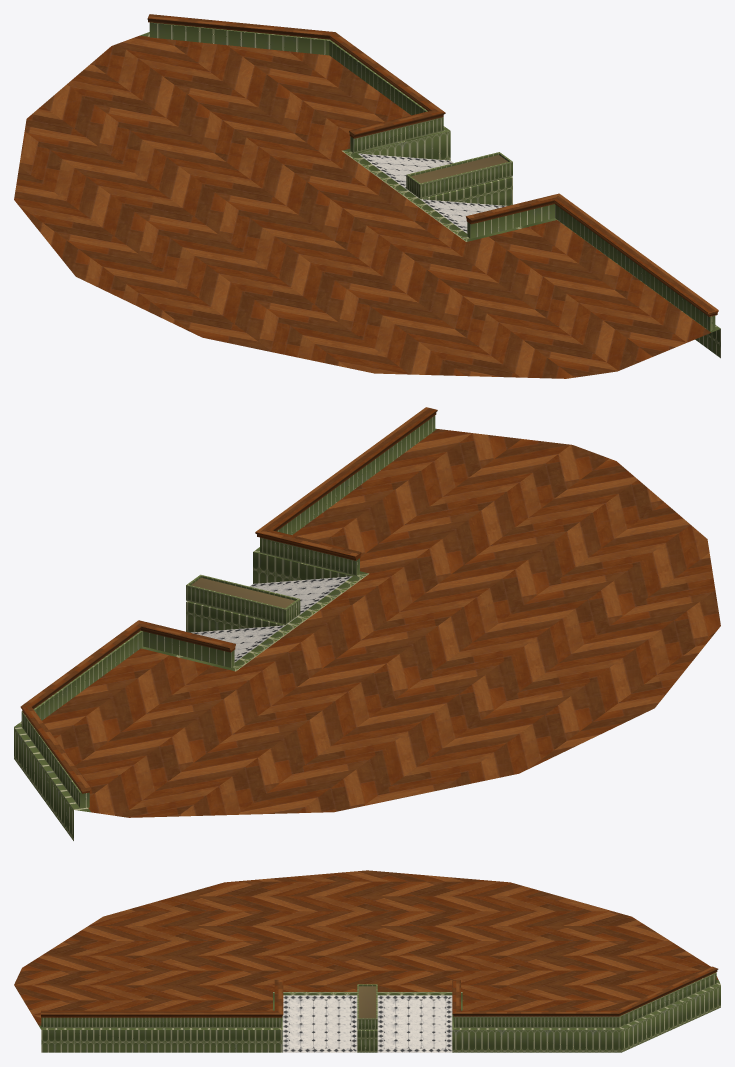
Rendered from BarStage.fbx.
The picture shows the model from 3 angles, top to bottom: view 1: azimuth 30°, elevation 25°; view 2: azimuth 150°, elevation 25°; view 3: azimuth 270°, elevation 25°; orthographic projection. The views are drawn at different scales.
Visible parts, largest first — view 1: Plane.015, Cube.012, Cube.011, Cylinder.045, Cube.010, Cylinder.007, Cylinder.005, Cylinder.051; view 2: Plane.015, Cube.012, Cylinder.045, Cube.011, Cube.010, Cylinder.007, Cylinder.005, Cylinder.051; view 3: Plane.015, Cylinder.007, Cylinder.005, Cube.012, Cube.011, Cylinder.051, Cube.010, Cylinder.045.
Boxes of the visible parts, x1,y1,x2,y2 form: Plane.015: (14, 32, 720, 378); Cube.012: (147, 14, 718, 316); Cube.011: (149, 22, 443, 153); Cylinder.045: (406, 152, 512, 205); Cube.010: (467, 204, 715, 331); Cylinder.007: (357, 131, 720, 358); Cylinder.005: (368, 157, 498, 228); Cylinder.051: (358, 153, 506, 233); Plane.015: (14, 428, 720, 817); Cube.012: (20, 407, 437, 793); Cylinder.045: (186, 574, 300, 632); Cube.011: (21, 631, 234, 808); Cube.010: (260, 415, 435, 575); Cylinder.007: (14, 552, 351, 840); Cylinder.005: (199, 580, 340, 657); Cylinder.051: (191, 576, 352, 662); Plane.015: (14, 870, 720, 1029); Cylinder.007: (41, 985, 720, 1052); Cylinder.005: (289, 999, 445, 1048); Cube.012: (41, 966, 718, 1017); Cube.011: (454, 972, 716, 1027); Cylinder.051: (282, 995, 452, 1052); Cube.010: (41, 1017, 281, 1027); Cylinder.045: (357, 984, 377, 1052).
Bounding box in the file's own units: 5749 × 626 × 10760.
